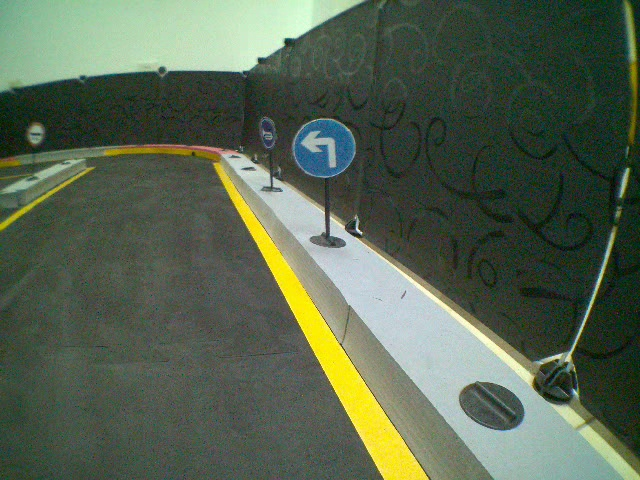Check: (26, 120, 45, 146)
horn: (257, 115, 278, 150)
turn: (292, 117, 357, 180)
